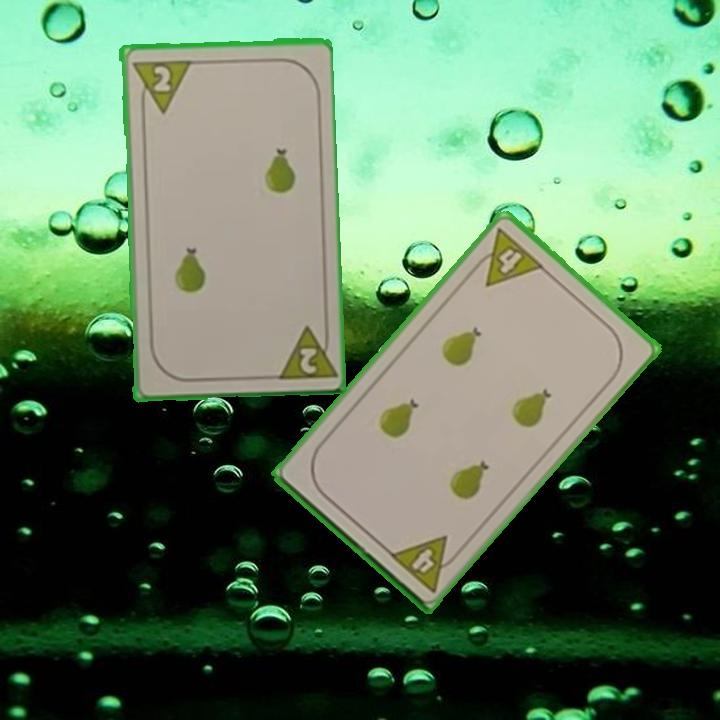2p: (272, 320, 337, 383), (128, 56, 192, 117)
4p: (466, 224, 547, 290), (385, 531, 464, 595)
